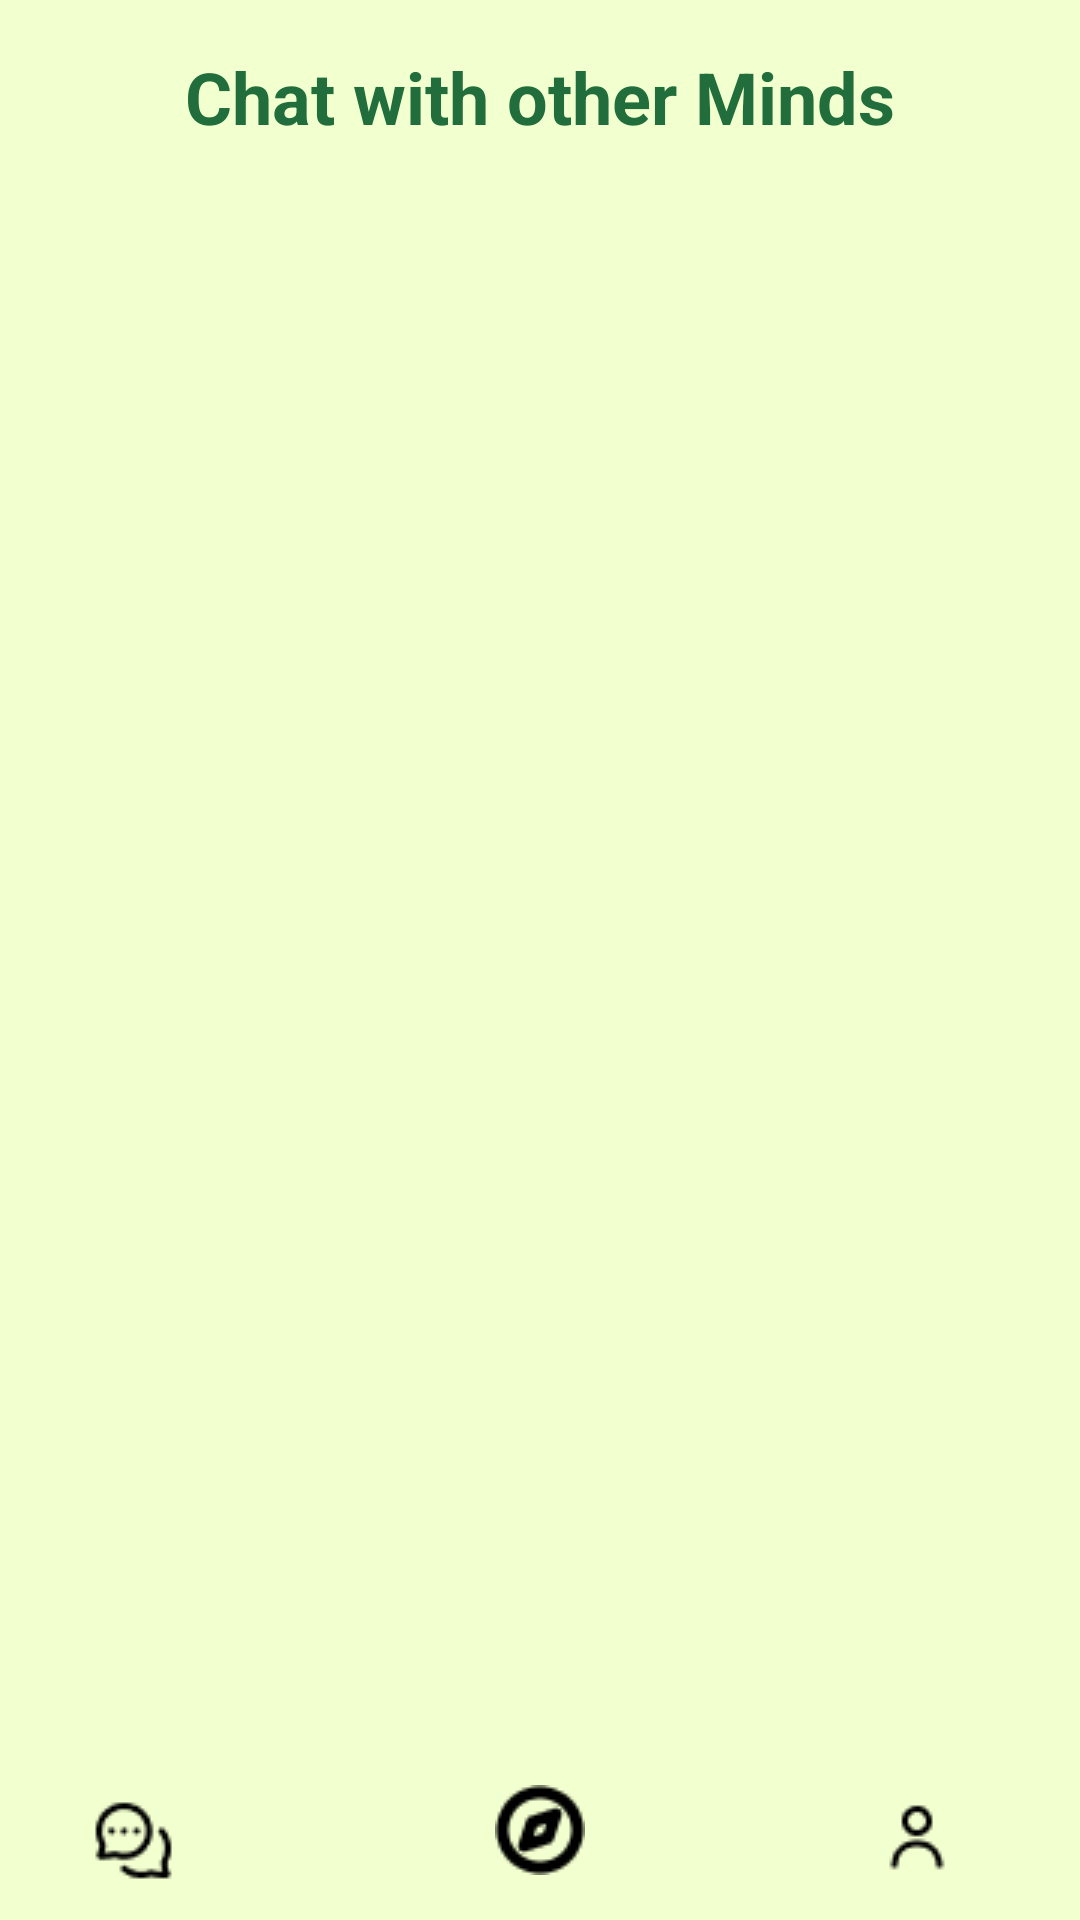

Where icons sit on this 1080x1920 app screen, as (x1, y1, x2, y2):
bar mess: (95, 1802, 172, 1879)
bar profile: (889, 1805, 945, 1870)
